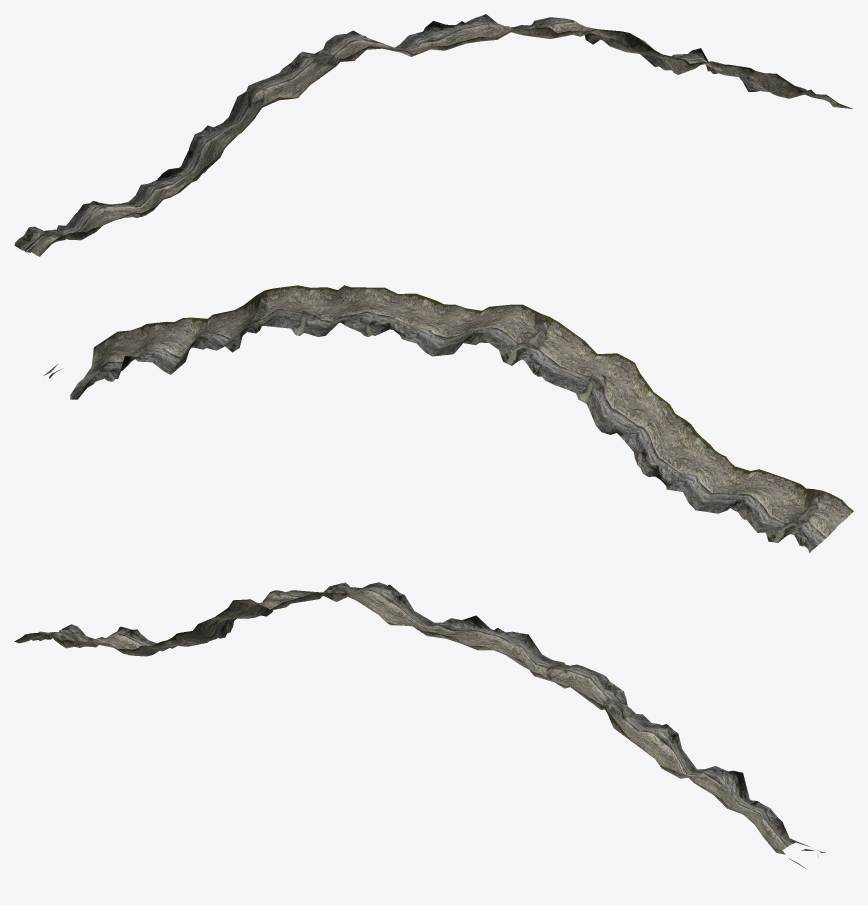
File: cliff05.glb
3 renders of one model, top to bottom at view 1: azimuth 30°, elevation 25°; view 2: azimuth 150°, elevation 25°; view 3: azimuth 330°, elevation 25°, orthographic.
Size of the model in its own units: 15337 by 3468 by 1182.
5 materials, 5 textured.
